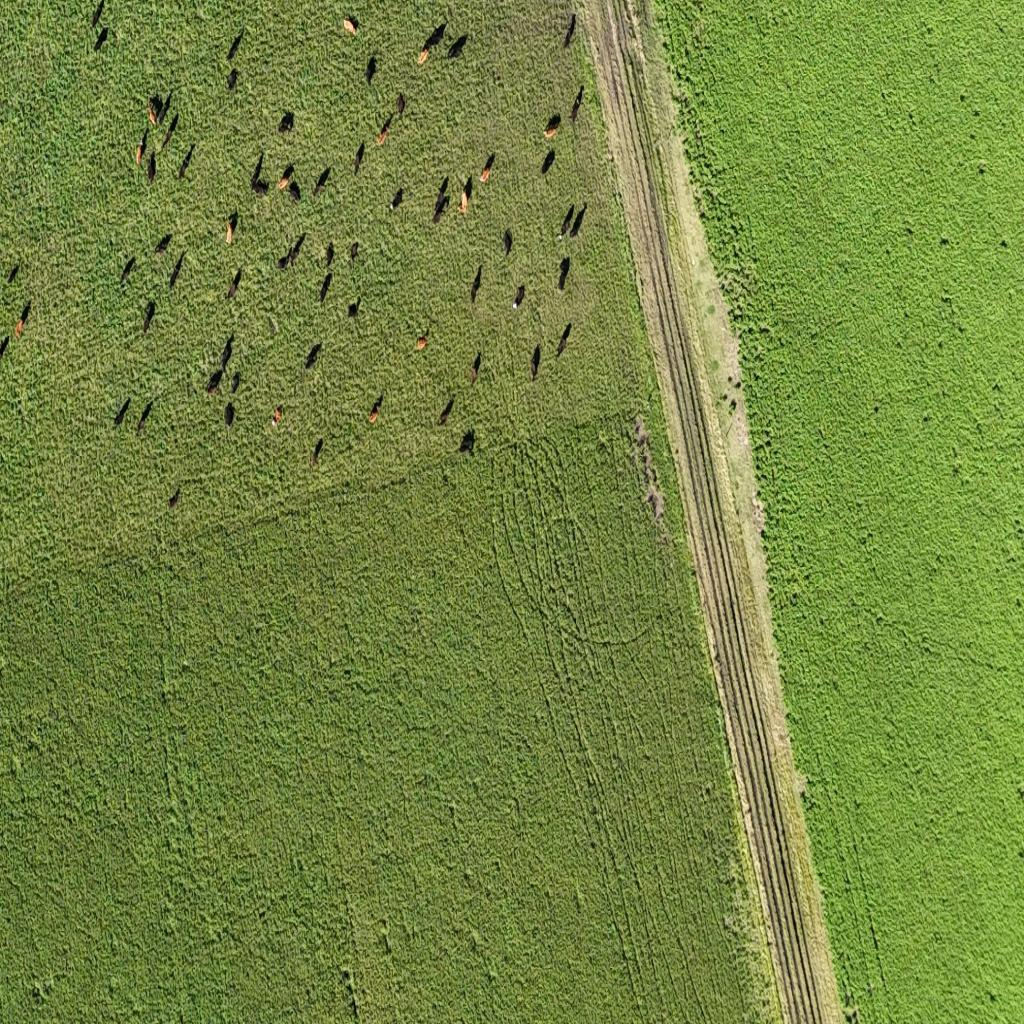cow: (250, 151, 269, 194), (10, 302, 29, 344), (160, 108, 178, 152), (421, 22, 446, 53), (168, 250, 184, 292), (569, 204, 587, 240), (446, 33, 468, 60), (558, 204, 574, 241), (570, 84, 584, 126), (456, 175, 471, 214), (313, 166, 331, 198), (136, 401, 153, 434), (220, 332, 234, 372), (146, 98, 162, 133), (119, 254, 137, 285), (556, 321, 571, 358), (114, 398, 132, 428), (178, 143, 193, 179), (228, 266, 243, 302), (563, 12, 577, 50), (224, 210, 238, 248), (136, 125, 148, 169), (227, 29, 243, 62), (432, 197, 449, 228), (142, 300, 156, 336), (206, 368, 223, 396), (544, 113, 561, 141), (278, 163, 294, 192), (369, 397, 384, 427), (305, 342, 321, 370), (277, 242, 293, 270), (558, 255, 570, 292), (458, 428, 475, 454), (319, 270, 332, 304), (154, 232, 172, 256), (439, 396, 453, 426), (541, 148, 556, 176), (91, 0, 105, 30), (477, 162, 493, 188), (530, 343, 541, 380), (472, 263, 482, 303), (364, 54, 376, 87), (354, 140, 365, 176), (94, 26, 108, 54), (389, 186, 404, 212), (278, 110, 294, 134), (342, 13, 360, 34), (470, 351, 481, 385), (322, 241, 334, 270), (501, 227, 512, 258), (311, 438, 323, 466), (513, 284, 525, 312), (348, 296, 362, 319), (147, 150, 156, 184), (378, 120, 390, 145), (8, 260, 20, 284), (224, 401, 234, 429), (288, 181, 301, 202), (0, 335, 10, 362), (396, 92, 406, 119), (168, 486, 180, 508), (227, 69, 238, 92), (416, 330, 428, 350), (418, 46, 430, 66), (349, 241, 359, 265), (272, 406, 282, 428), (231, 372, 240, 394)
